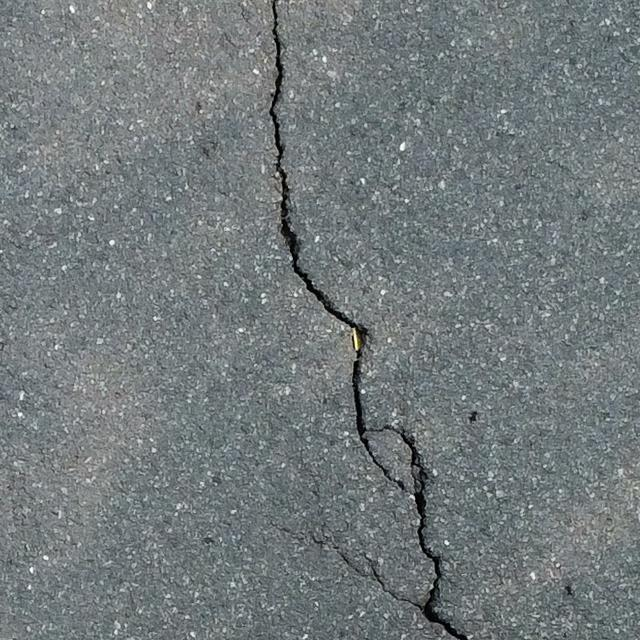LongitudinalCrack: (268, 1, 464, 640)
